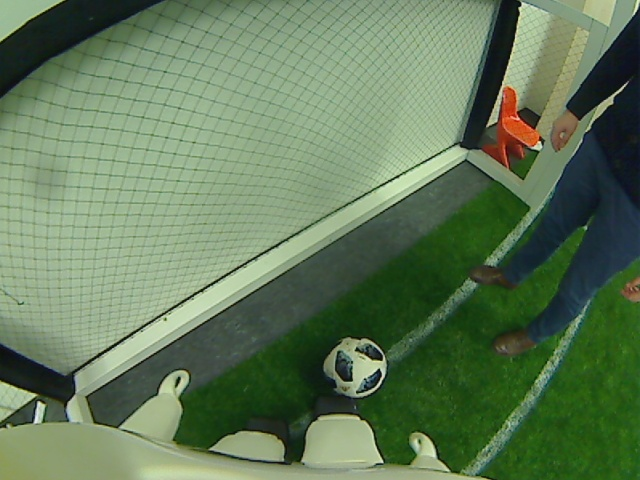ball: (324, 334, 389, 399)
